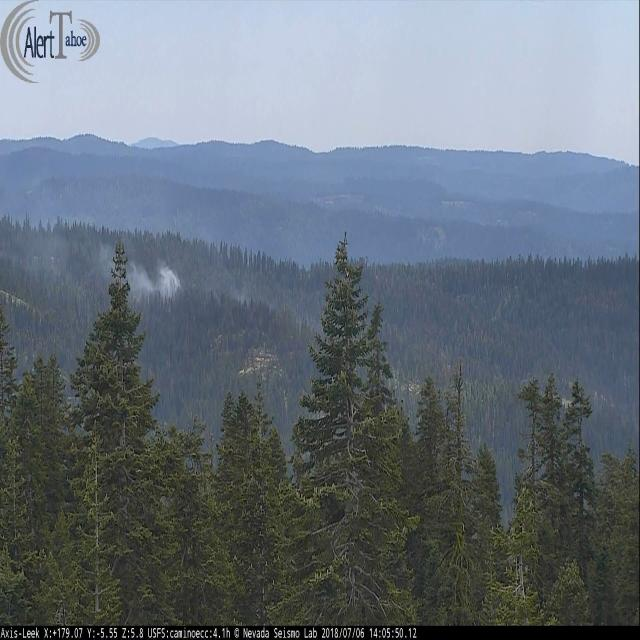smoke: (106, 240, 179, 308)
